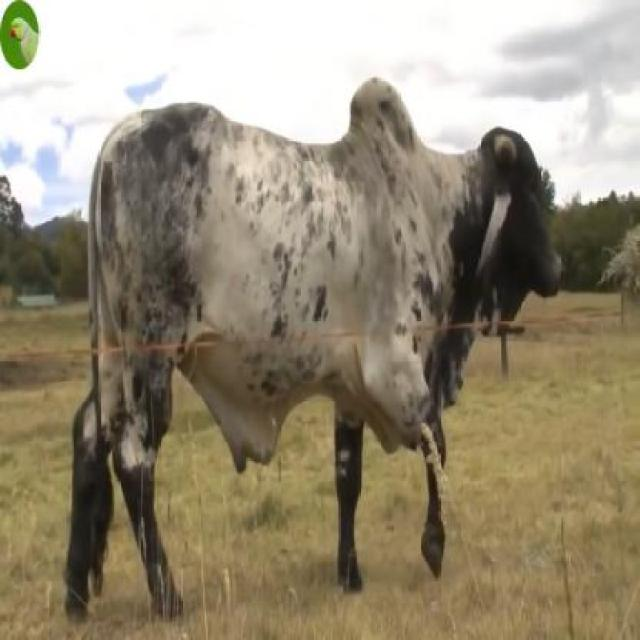Cow: (66, 81, 562, 624)
